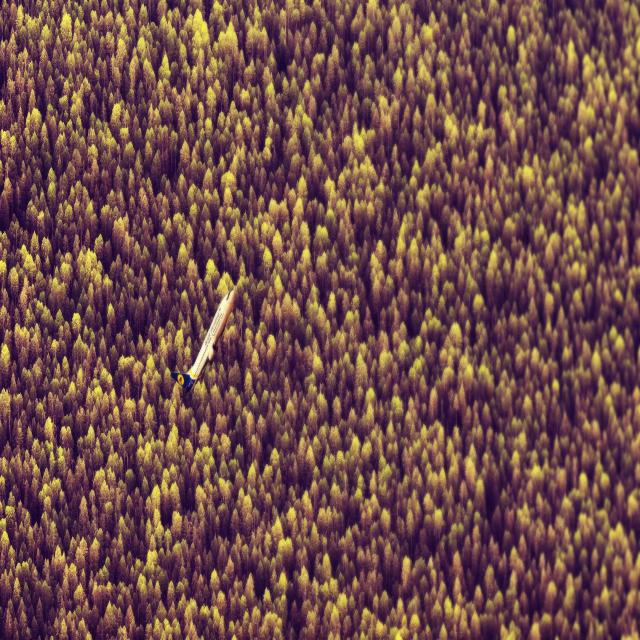airplane: (170, 288, 235, 394)
